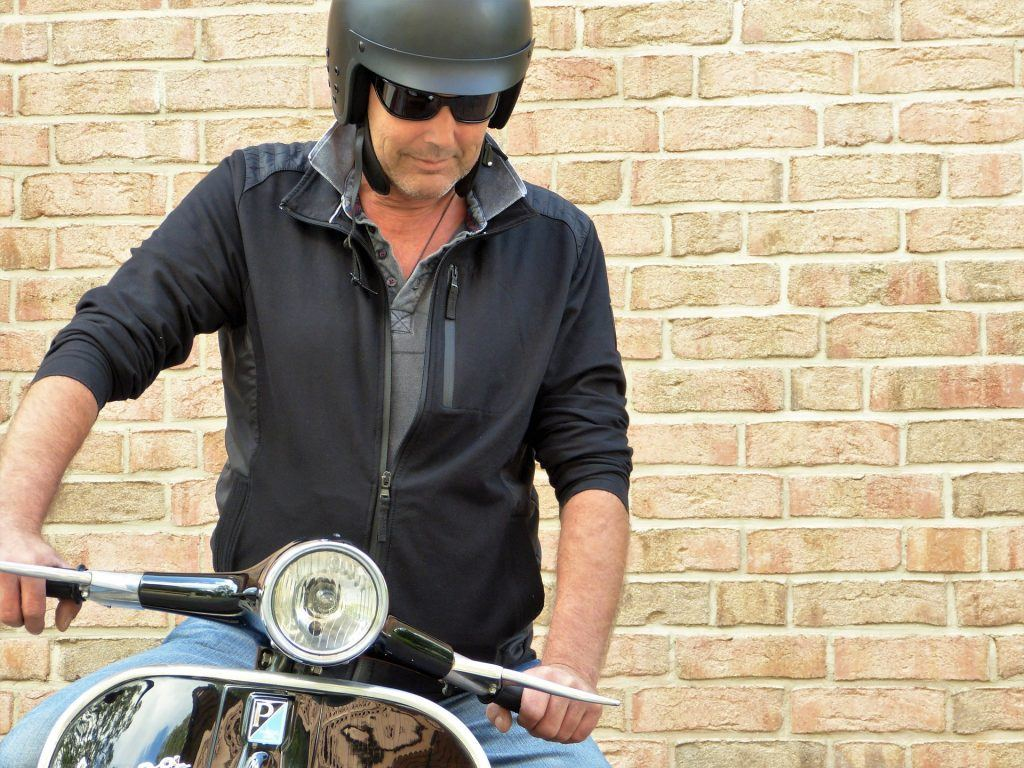with_helmet: (297, 8, 532, 140)
